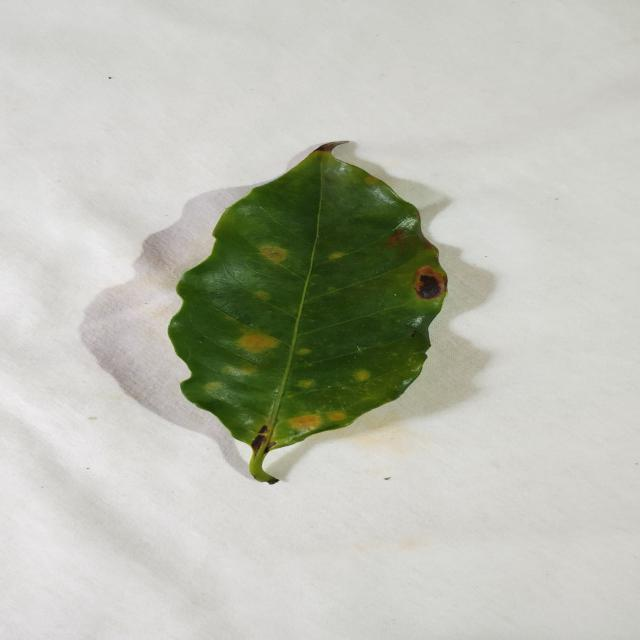Enfermedad-Roya: (166, 144, 448, 481)
